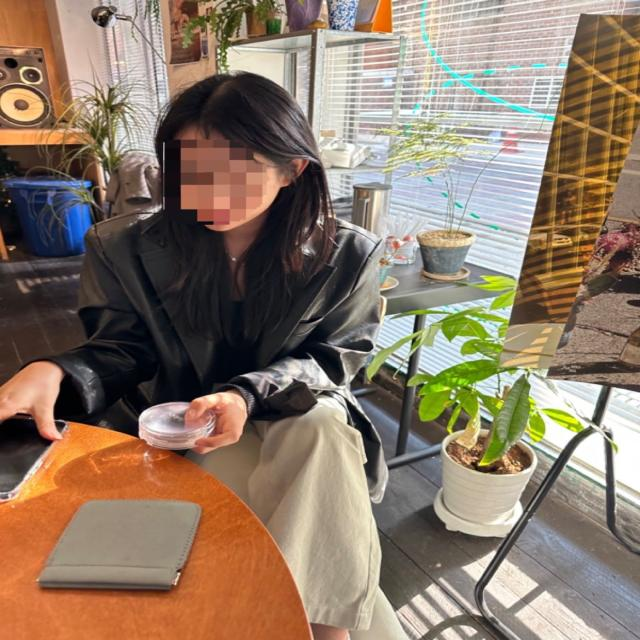blazer: (19, 202, 384, 462)
cottonpants: (172, 384, 384, 630)
